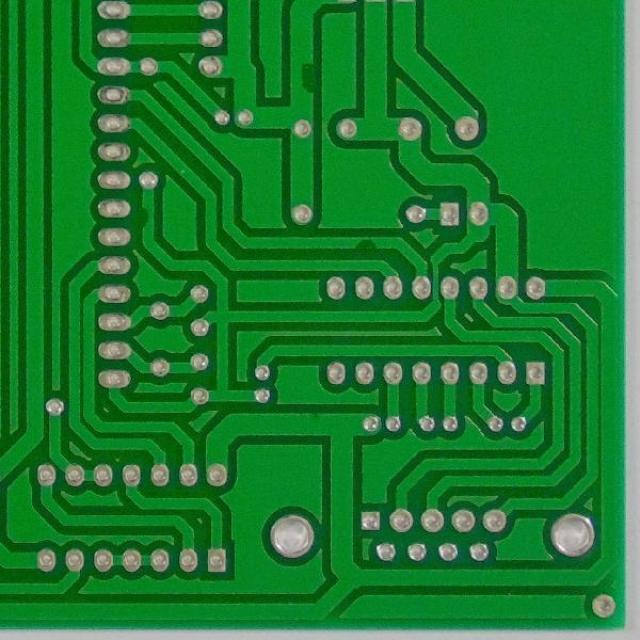MouseBite: (288, 58, 318, 102), (137, 202, 158, 235), (352, 232, 378, 253)
